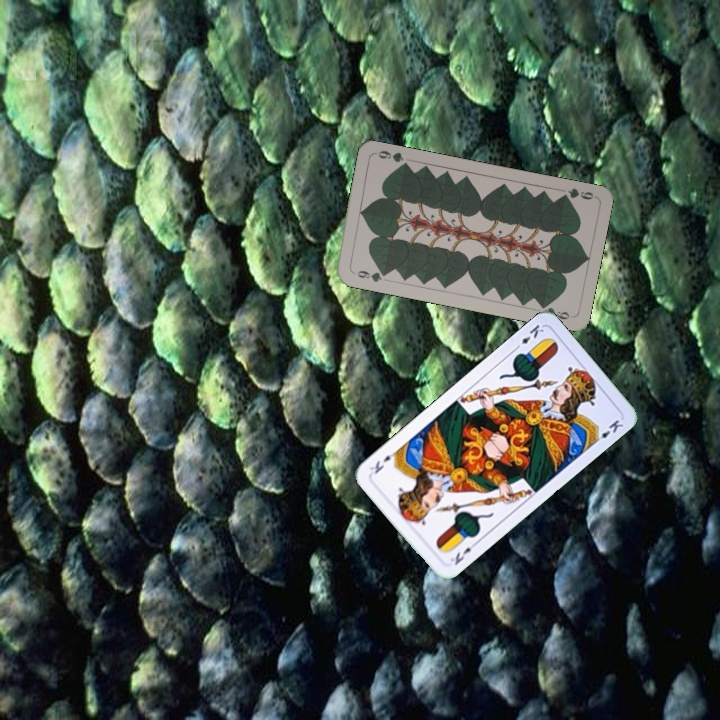EK: (510, 320, 546, 353), (446, 537, 480, 568)
G9: (349, 266, 390, 285), (556, 184, 598, 202)
